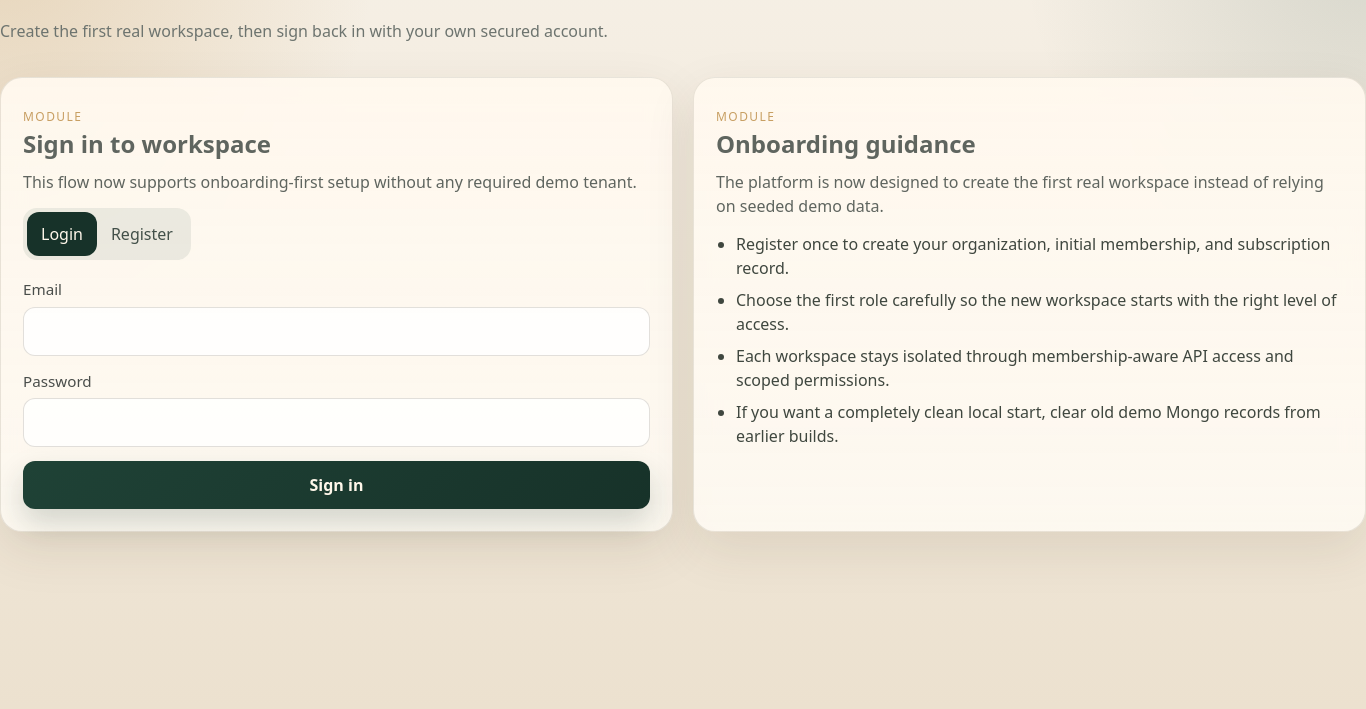
Test: AuthPage › switches to the register flow and shows workspace creation fields
Click the button "Register".
click(142, 234)  # box x1=97 y1=212 x2=187 y2=256
(page scrolled)
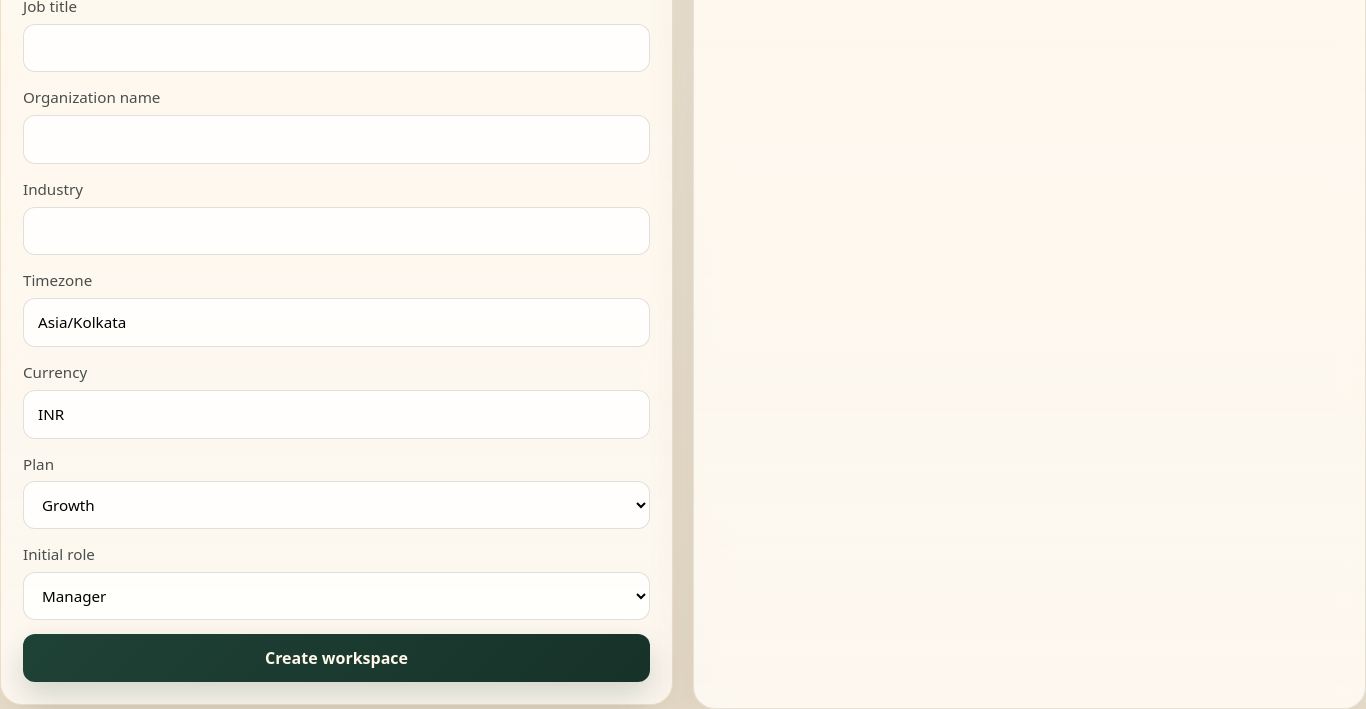
Expected: the field labelled "Organization name" is shown, x1=23 y1=115 x2=650 y2=164
Expected: the button "Create workspace" is shown, x1=23 y1=634 x2=650 y2=682
